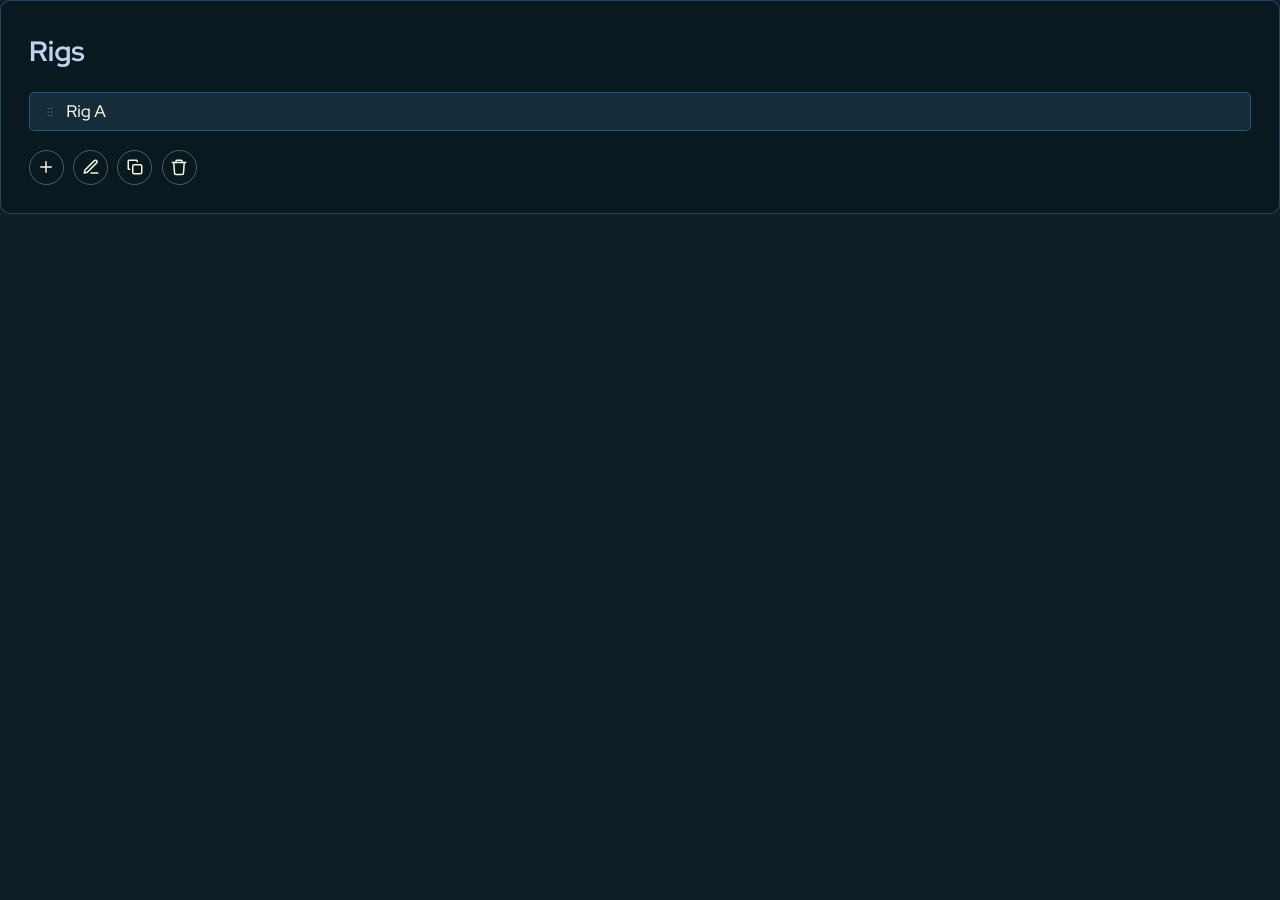
Scenario: editing › updates the rig in place on save
The width and height of the screenshot is (1280, 900).
Expected: the number of options is 1, [29,92,1251,131]
Click the button named "edit rig" at (91, 167), box [73,150,108,185]
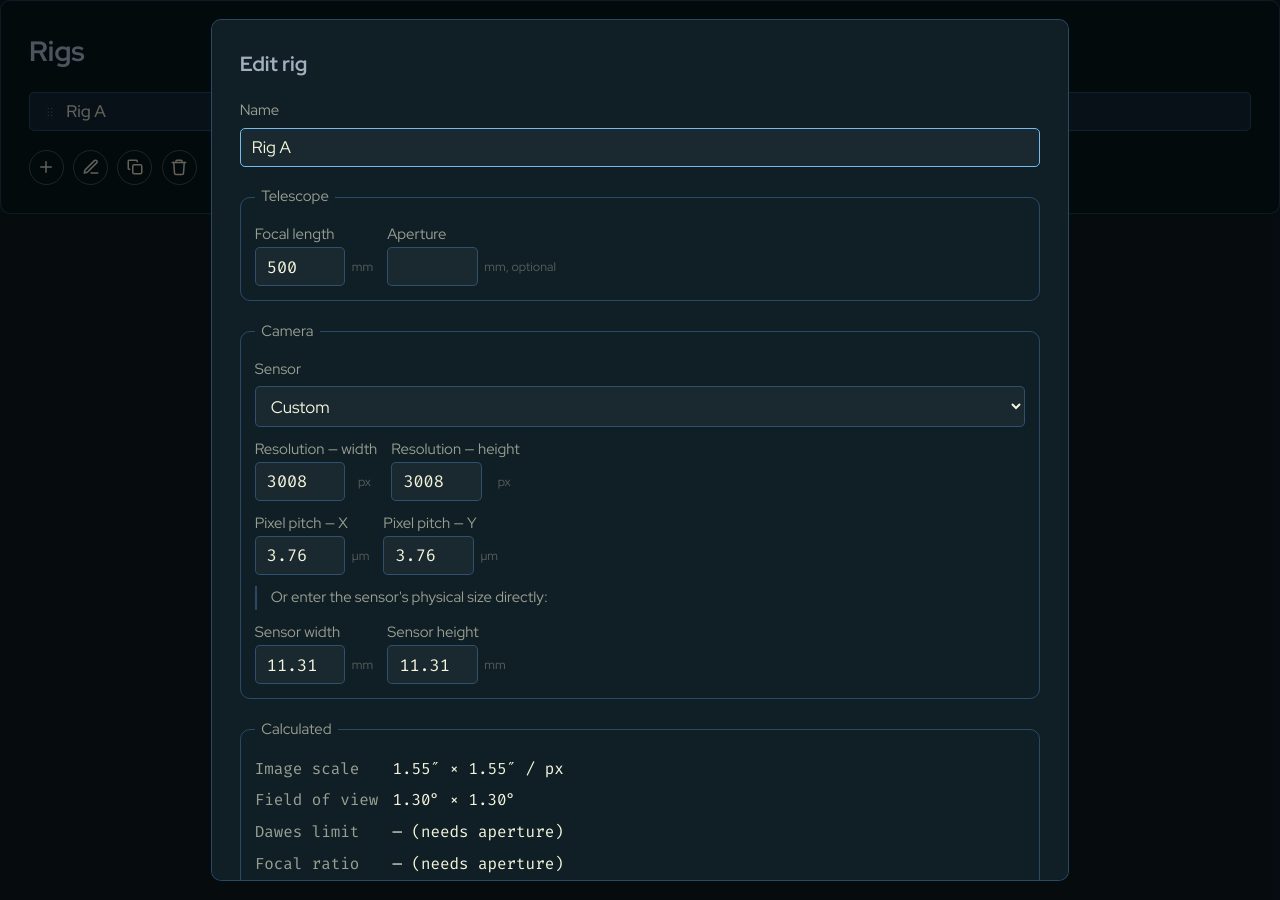
Replace the text in the field labelled "Name" with "Renamed" at (640, 147), box [240,128,1040,167]
(page scrolled)
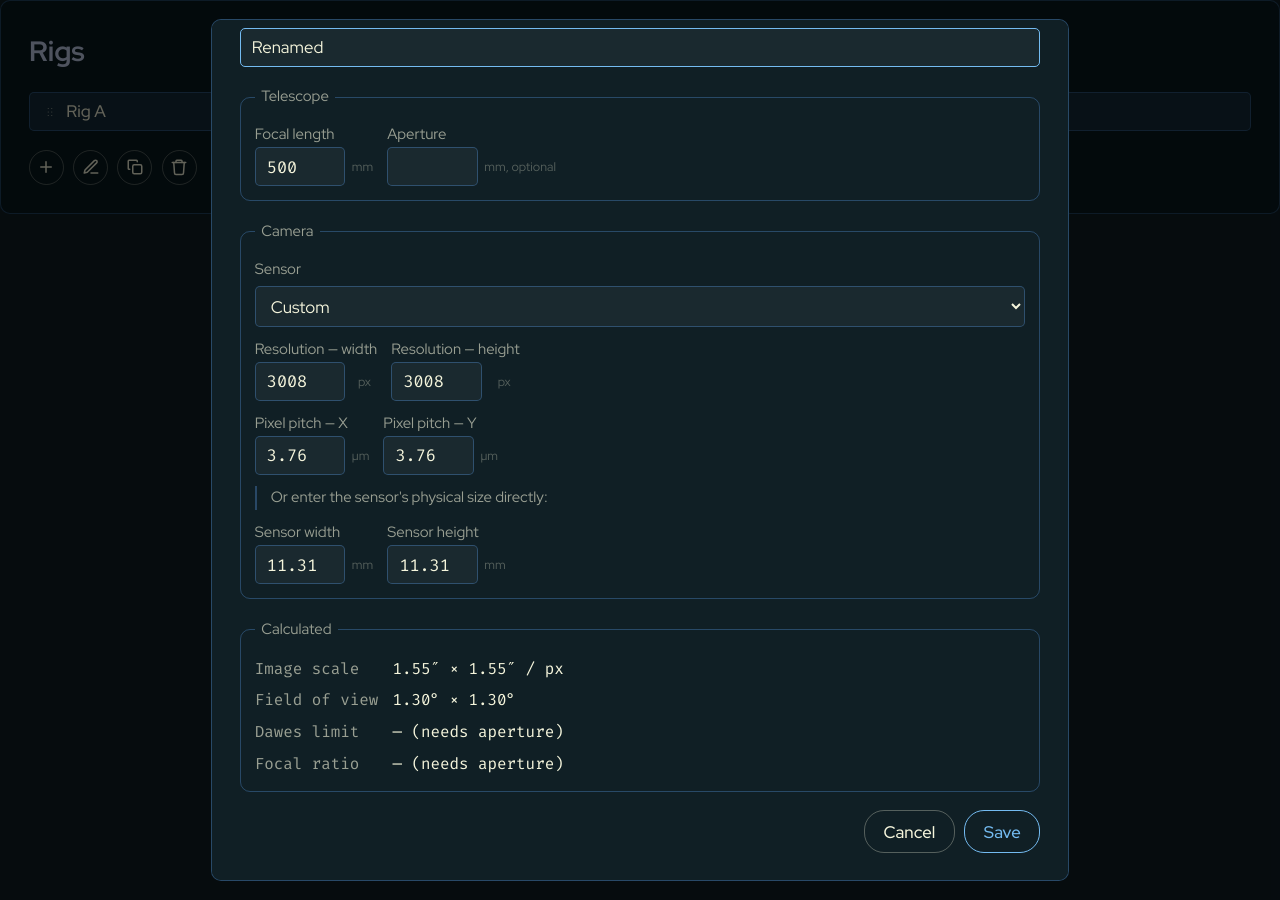
Click the button "Save" at (1002, 832), box [964,810,1040,853]
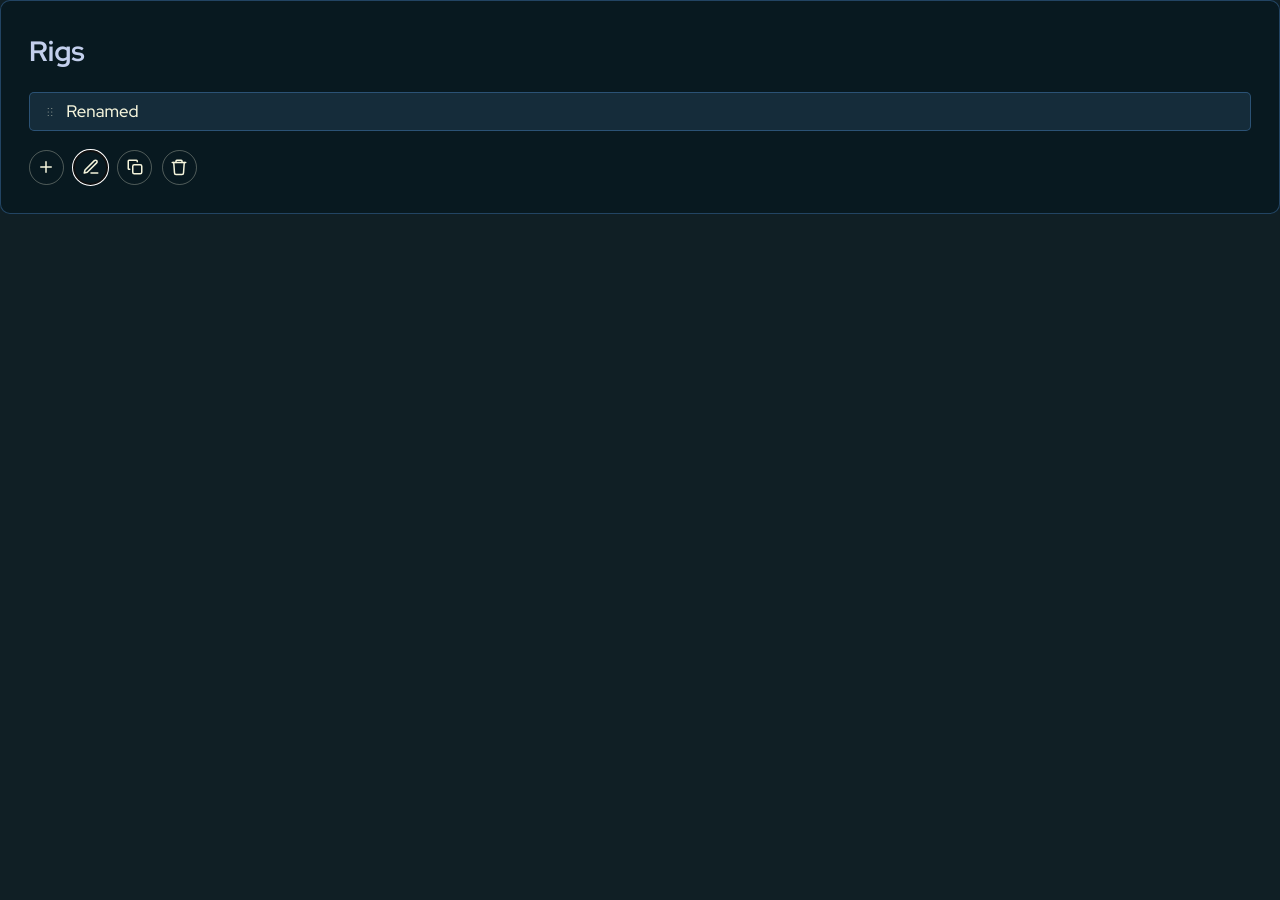
Expected: the text "Renamed" is shown, [66,101,139,123]
